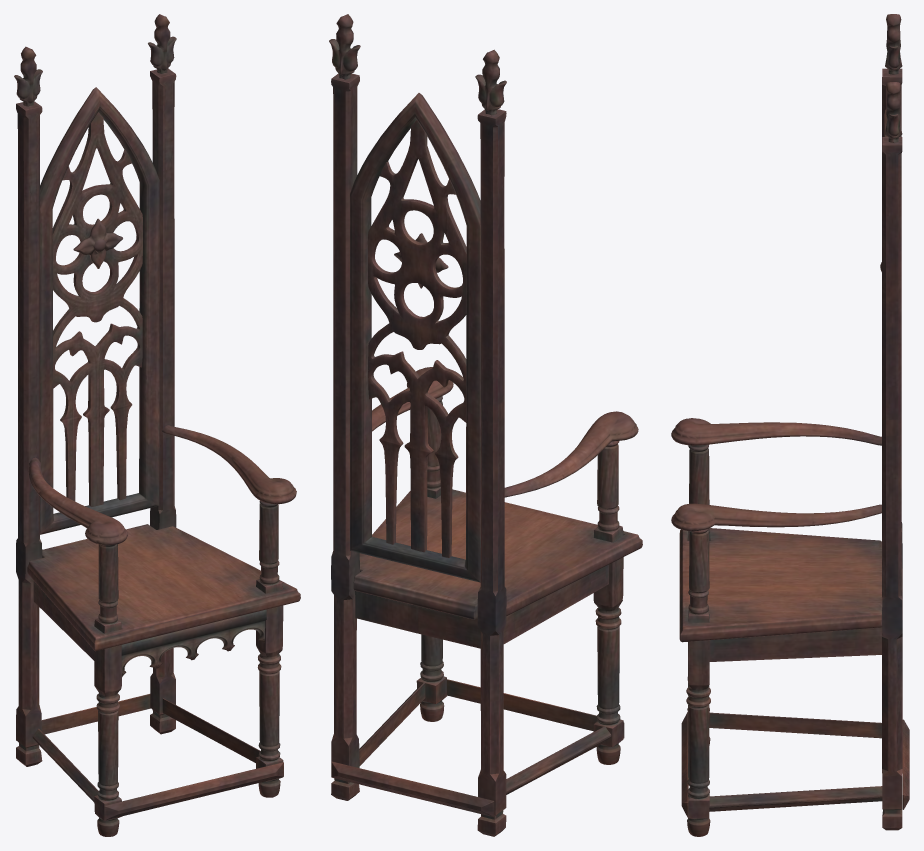
Rendered from WoodenChair_01_1k.gltf.
3 renders of one model, left to right at view 1: azimuth 30°, elevation 25°; view 2: azimuth 150°, elevation 25°; view 3: azimuth 270°, elevation 25°, orthographic. The views are drawn at different scales.
Visible parts, largest first — view 1: WoodenChair_01; view 2: WoodenChair_01; view 3: WoodenChair_01.
Boxes of the visible parts, x1,y1,x2,y2 form: WoodenChair_01: (14, 14, 300, 836); WoodenChair_01: (329, 14, 642, 836); WoodenChair_01: (671, 14, 909, 836).
Bounding box in the file's own units: 0.6882 × 2.27 × 0.6585.
Materials: 1 (1 with a texture image).
